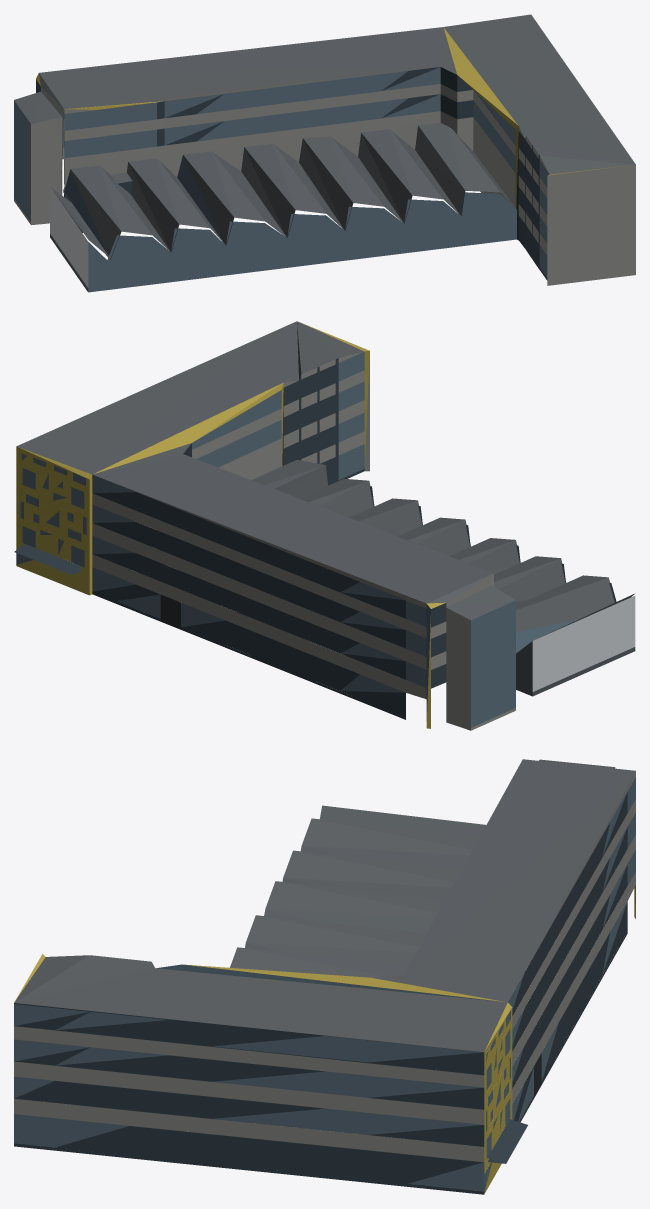
File: dominicus-savius-school.lod2.glb
3 views of the same model, one above another, from view 1: azimuth 30°, elevation 25°; view 2: azimuth 150°, elevation 25°; view 3: azimuth 270°, elevation 25° (orthographic). The views are drawn at different scales.
Visible parts, largest first — view 1: lod2; view 2: lod2; view 3: lod2.
Part boxes in pixels (left/top/right/bottom): lod2: left=14, top=14, right=635, bottom=292; lod2: left=14, top=321, right=635, bottom=730; lod2: left=14, top=759, right=635, bottom=1194.
Size of the model in its own units: 79.45 by 17.2 by 65.19.
